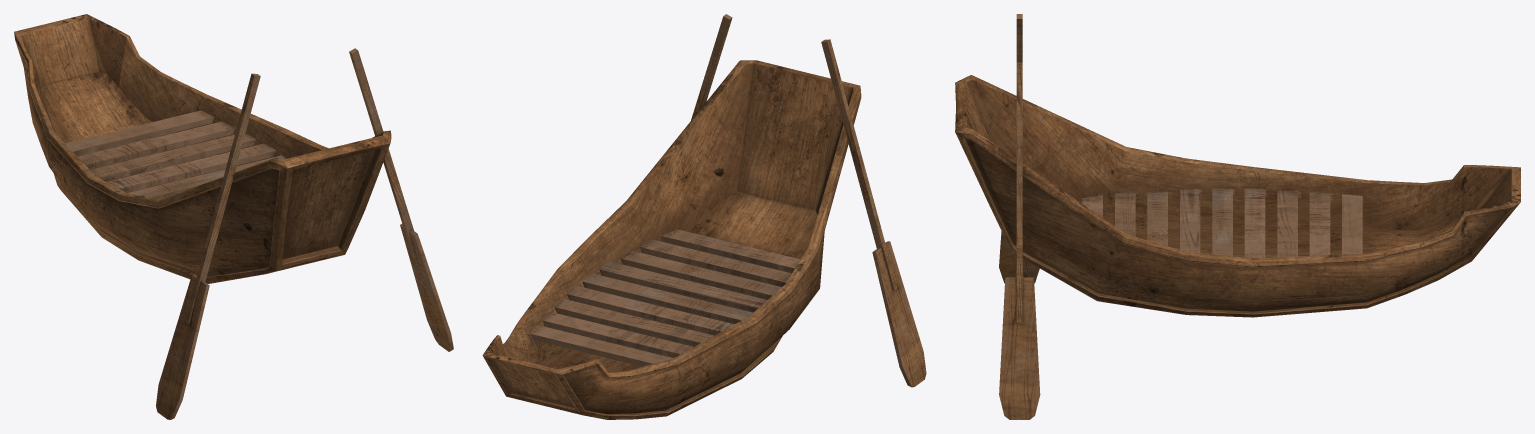
The model's file is boat.glb.
3 views of the same model, side by side, from view 1: azimuth 30°, elevation 25°; view 2: azimuth 150°, elevation 25°; view 3: azimuth 270°, elevation 25° (orthographic). The views are drawn at different scales.
Parts seen in each view (by area): view 1: Boat, L_Row, R_Row; view 2: Boat, L_Row, R_Row; view 3: Boat, R_Row, L_Row.
Part boxes in pixels (x1,y1,x2,y2): Boat: (14, 14, 391, 283); L_Row: (156, 73, 260, 419); R_Row: (349, 48, 453, 351); Boat: (482, 60, 861, 419); L_Row: (821, 39, 926, 387); R_Row: (691, 14, 732, 120); Boat: (955, 75, 1520, 317); R_Row: (999, 62, 1040, 419); L_Row: (999, 14, 1039, 283).
Bounding box in the file's own units: 0.5369 × 0.5777 × 0.9431.
Materials: 1 (1 with a texture image).
